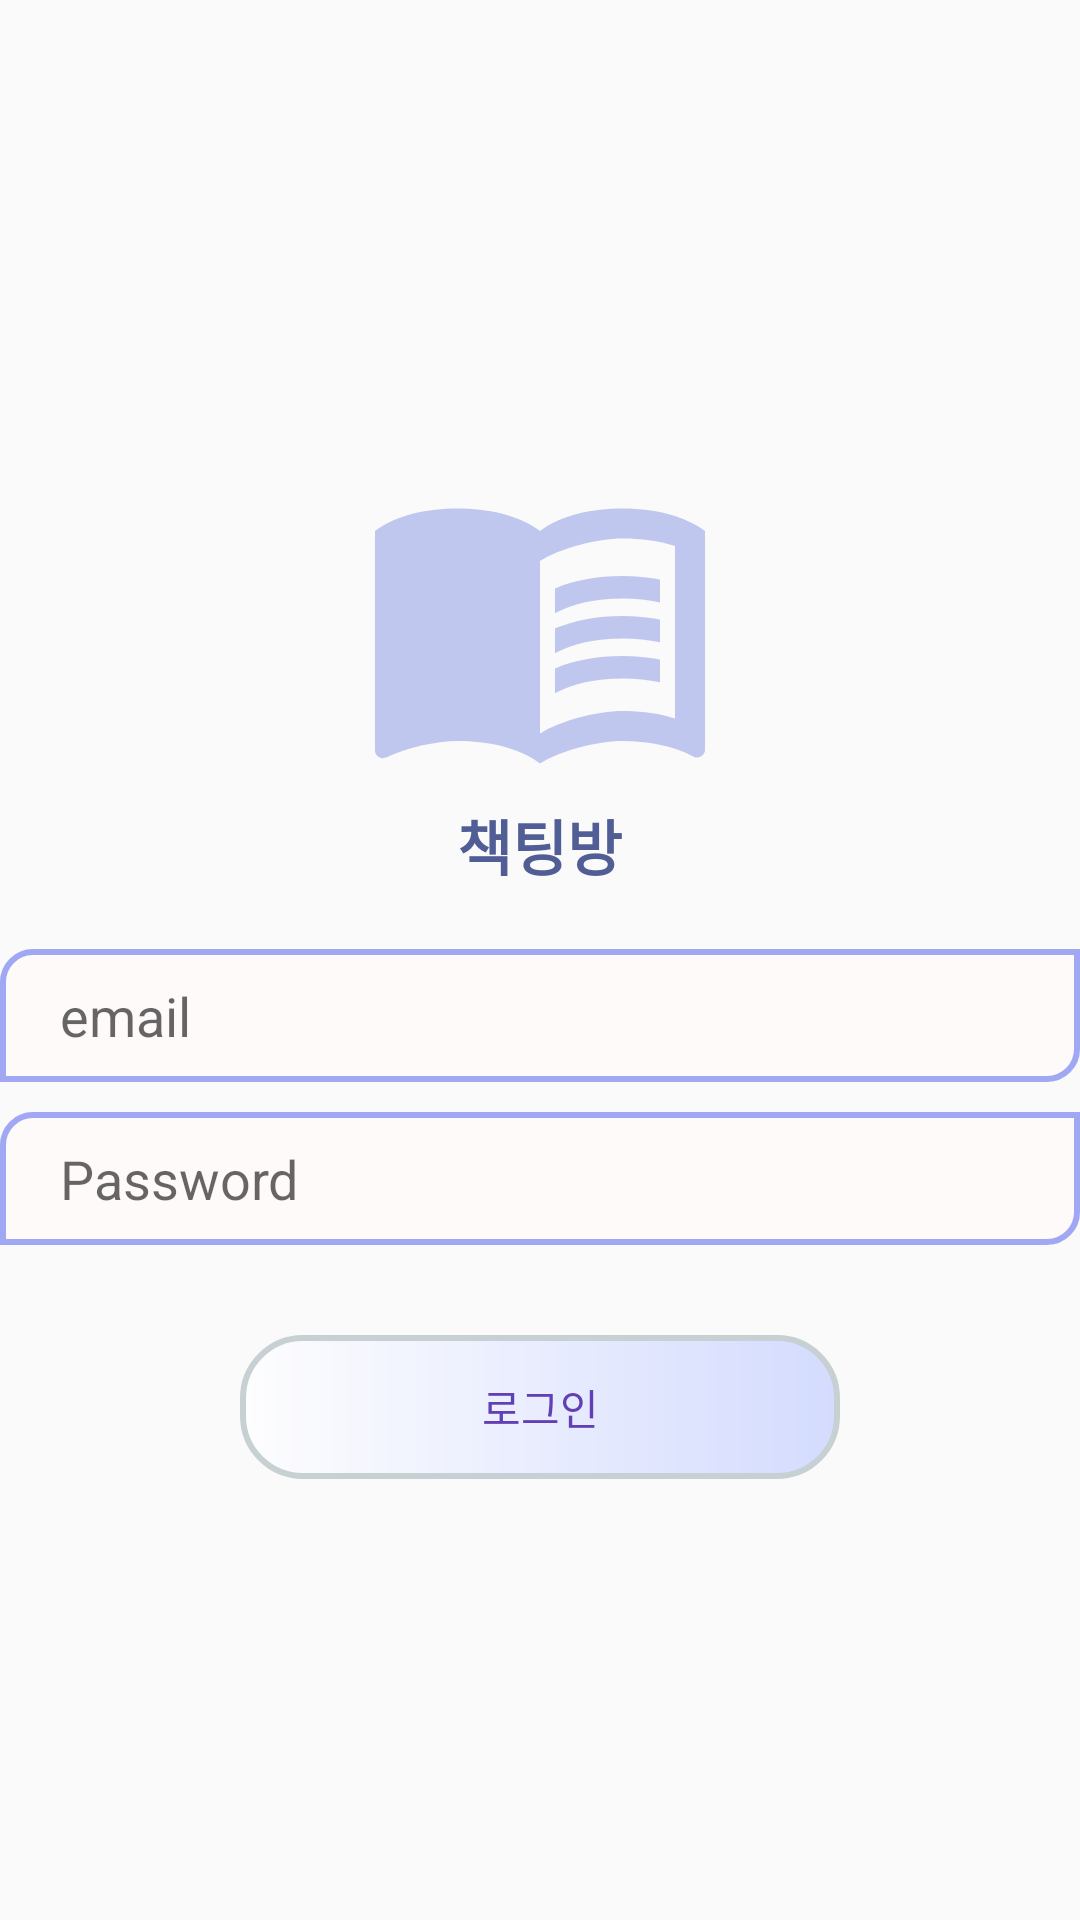

Named icons in this screenshot (1080x1920) and their bounding boxes, (x1, y1, x2, y2):
book: (375, 508, 705, 763)
